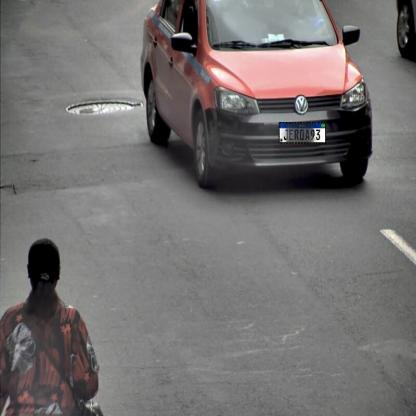PlacaM: (279, 122, 326, 144)
